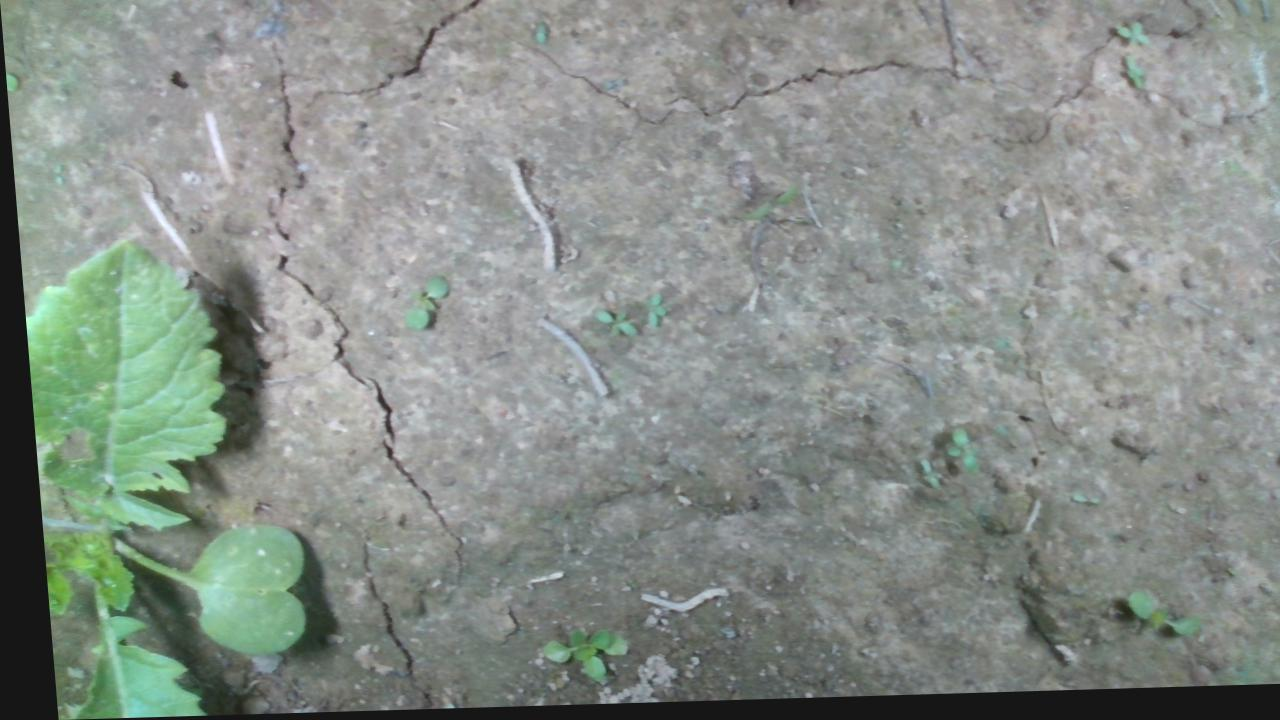weed: (1113, 591, 1193, 644), (395, 276, 446, 332), (931, 427, 970, 474), (1111, 23, 1152, 59), (586, 311, 632, 341), (1117, 58, 1144, 97), (637, 295, 661, 332), (911, 462, 934, 494)
